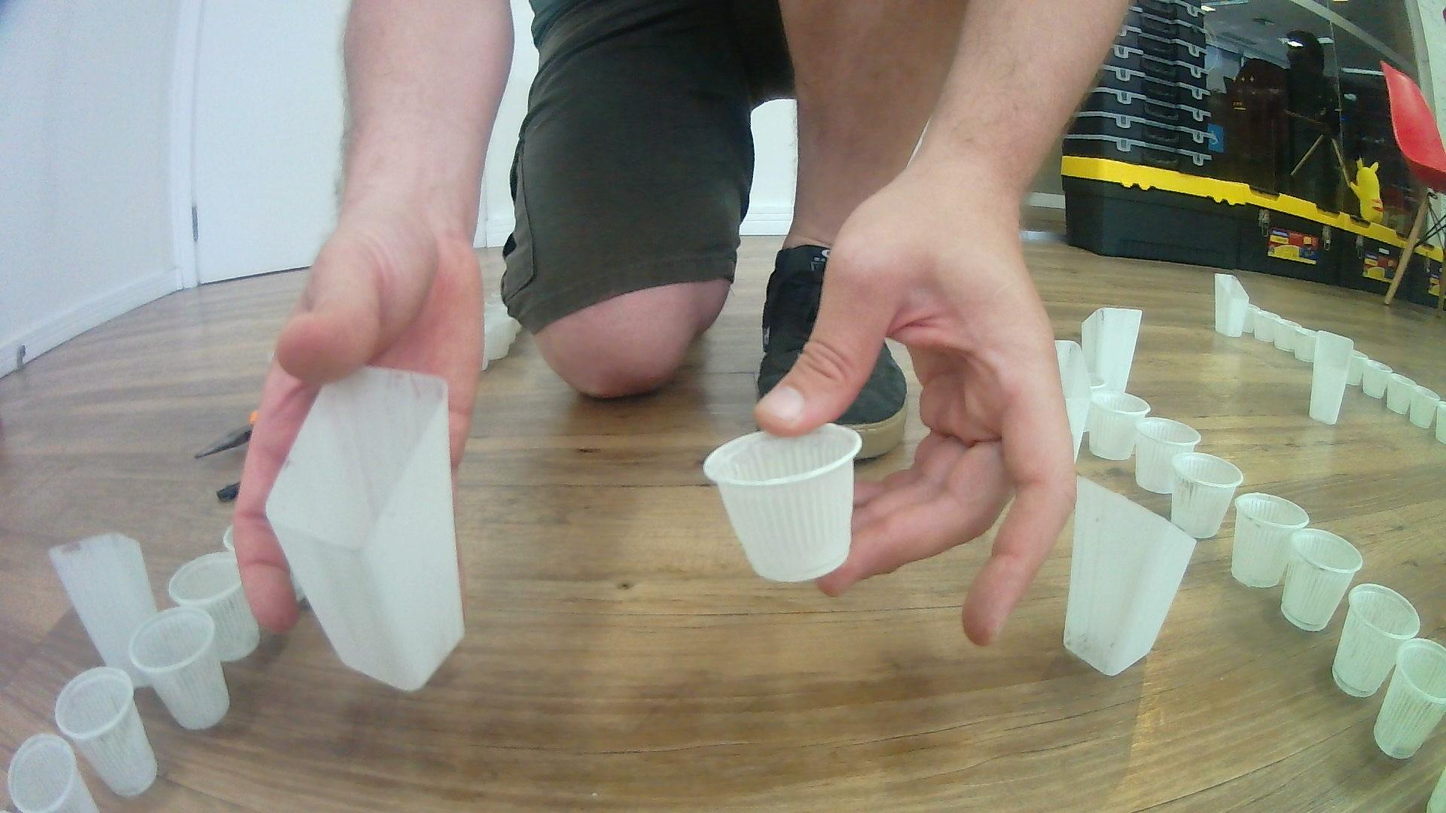erva_daninha: (262, 361, 466, 695), (1061, 474, 1198, 678), (46, 534, 156, 690), (1080, 306, 1143, 405), (1054, 341, 1092, 467), (1309, 330, 1354, 426), (1214, 274, 1249, 339)
planta: (703, 423, 862, 583), (53, 665, 159, 799), (126, 605, 231, 732), (1330, 583, 1421, 699), (168, 552, 261, 664), (1372, 638, 1446, 760), (1279, 528, 1363, 632), (1229, 492, 1310, 589), (6, 732, 101, 813), (1170, 452, 1244, 541), (1135, 417, 1200, 495), (1088, 392, 1150, 462), (1408, 385, 1441, 429), (1386, 373, 1415, 415), (1294, 325, 1326, 362), (1270, 316, 1301, 353), (1362, 361, 1393, 398), (1243, 305, 1273, 343), (1345, 350, 1368, 387), (1436, 400, 1446, 444)
